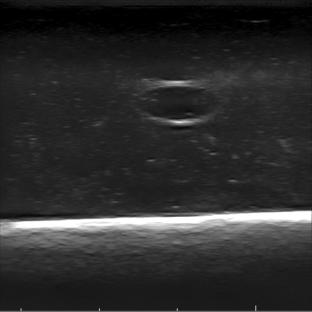vessel: (134, 81, 216, 126)
